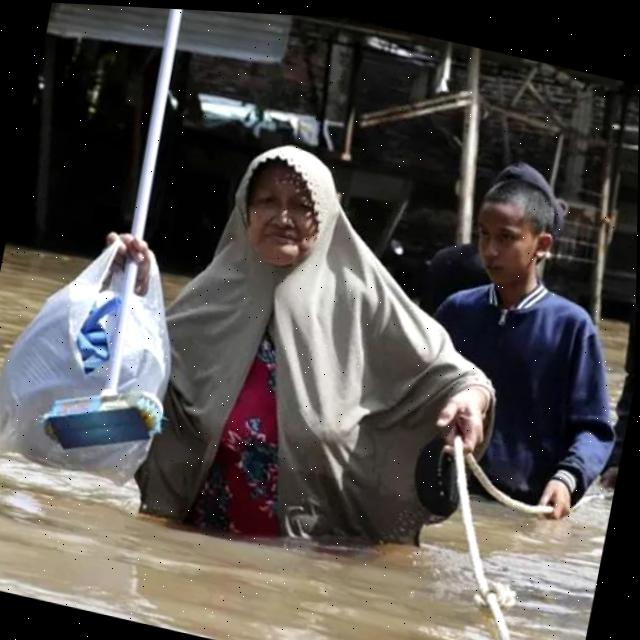civilian: (29, 55, 561, 640), (378, 118, 639, 568)
